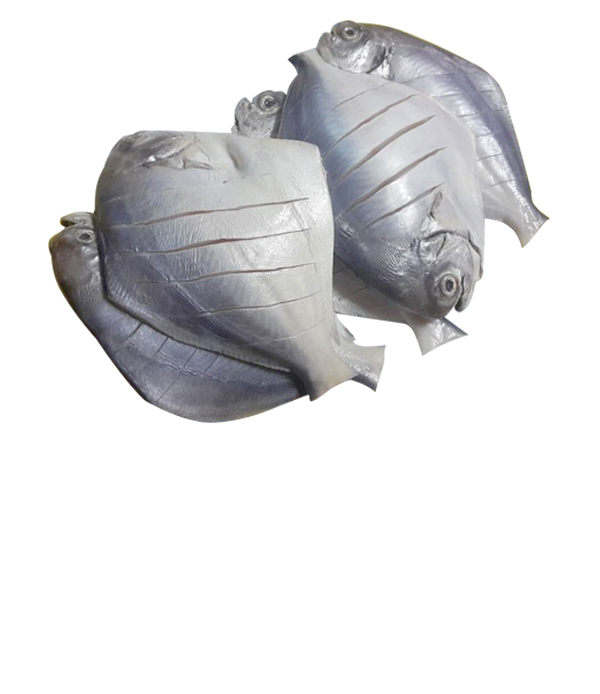Pomfret: (97, 129, 346, 404), (275, 51, 488, 322)
